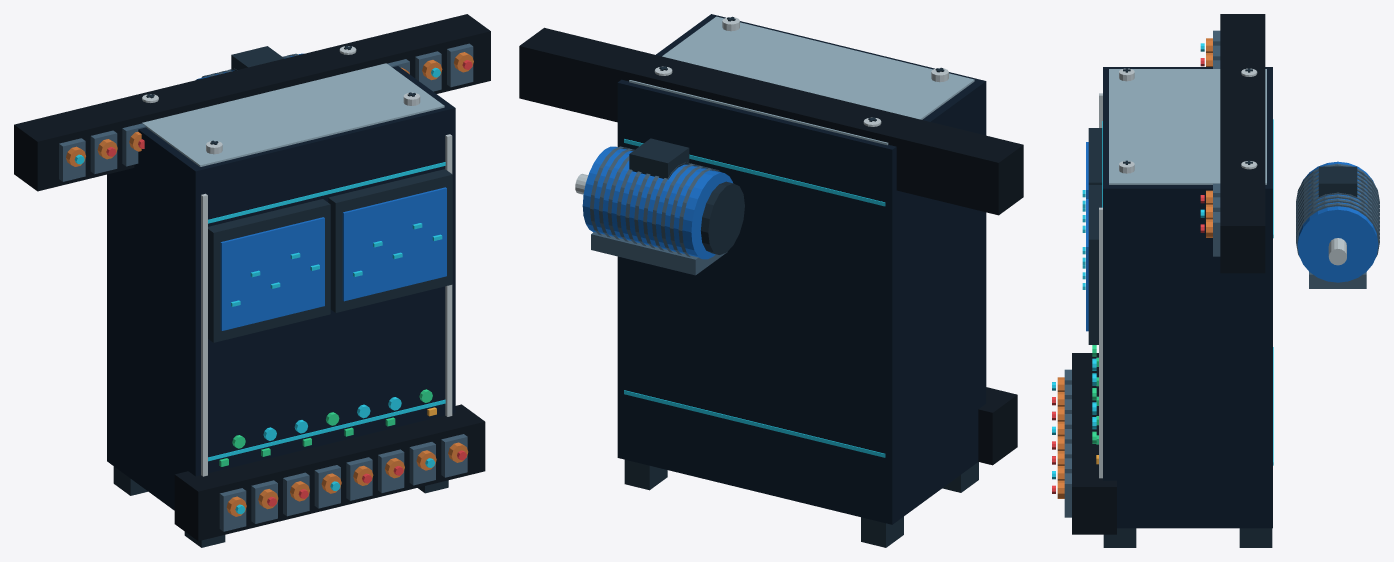
File: 31_L78_LowKRFMatchingAssembly.fbx
3 renders of one model, left to right at view 1: azimuth 30°, elevation 25°; view 2: azimuth 150°, elevation 25°; view 3: azimuth 270°, elevation 25°, orthographic. The views are drawn at different scales.
Parts seen in each view (by area): view 1: LowKRFMatchingAssembly; view 2: LowKRFMatchingAssembly; view 3: LowKRFMatchingAssembly.
Boxes of the visible parts, x1=… form: LowKRFMatchingAssembly: x1=14, y1=14, x2=490, y2=547; LowKRFMatchingAssembly: x1=519, y1=14, x2=1023, y2=547; LowKRFMatchingAssembly: x1=1052, y1=14, x2=1379, y2=547.
Bounding box in the file's own units: 201 × 165 × 131.
